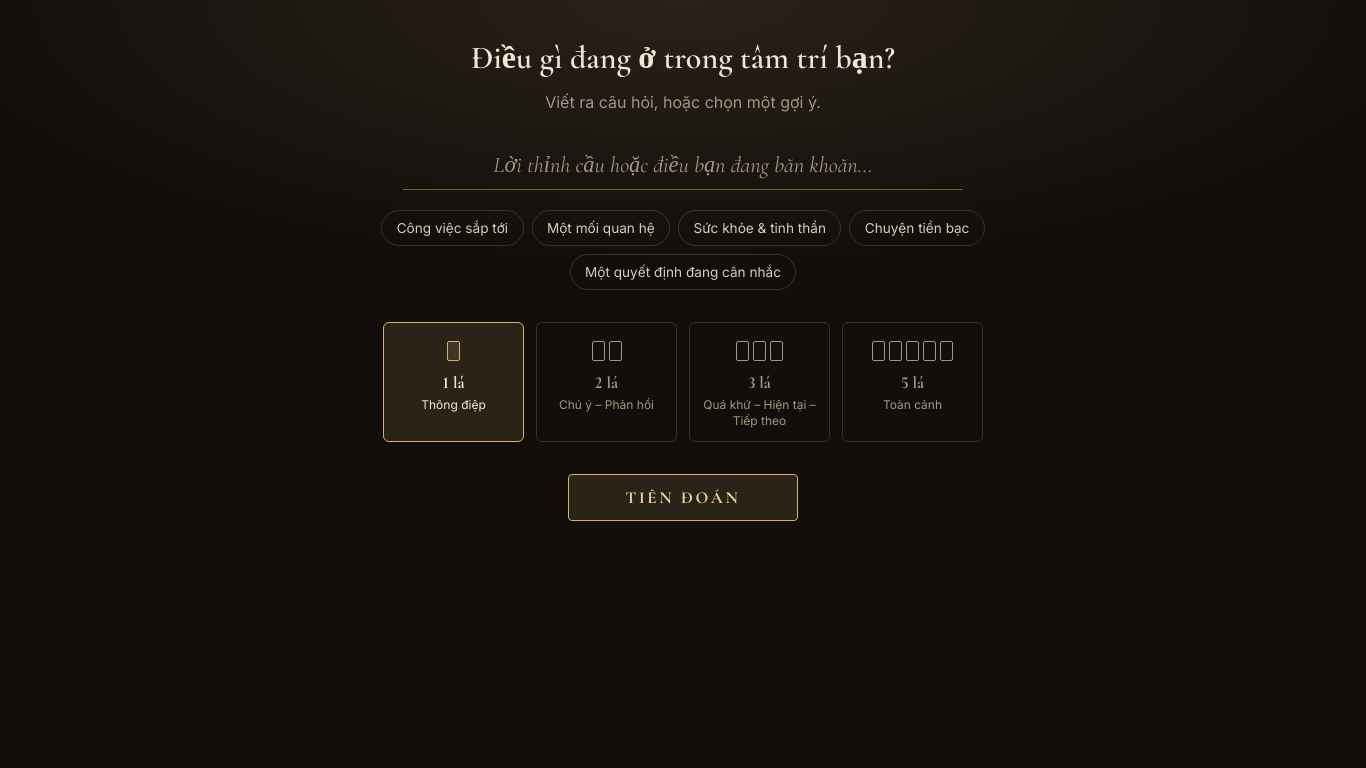
Test: RandomPullTab › "Hỏi câu khác" quay về bước 1, giữ câu hỏi và kiểu trải bài
Step 1. Type "Chuyện tiền bạc" into the text box named "Câu hỏi của bạn" → (683, 165), box [403, 139, 963, 190]
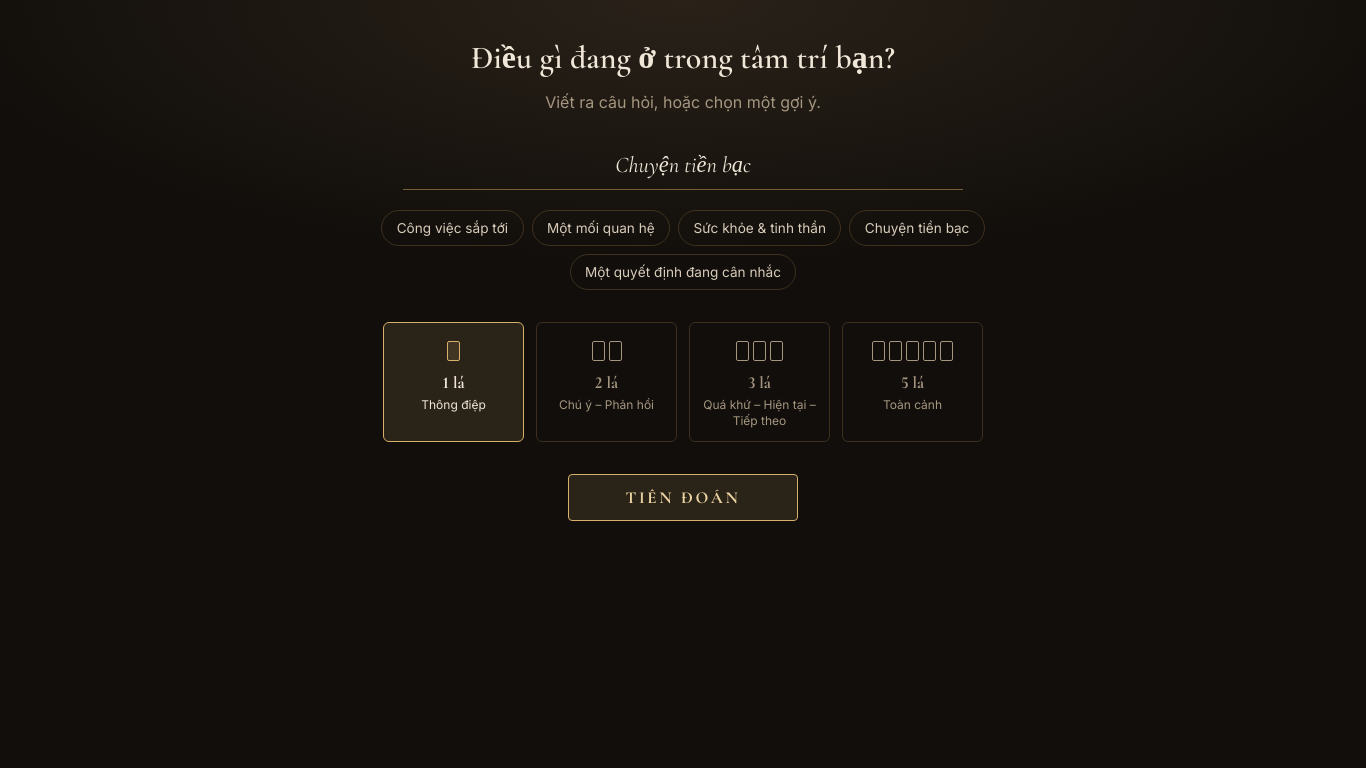
Step 2. Click the button "5 lá Toàn cảnh" → (912, 382), box [842, 322, 983, 442]
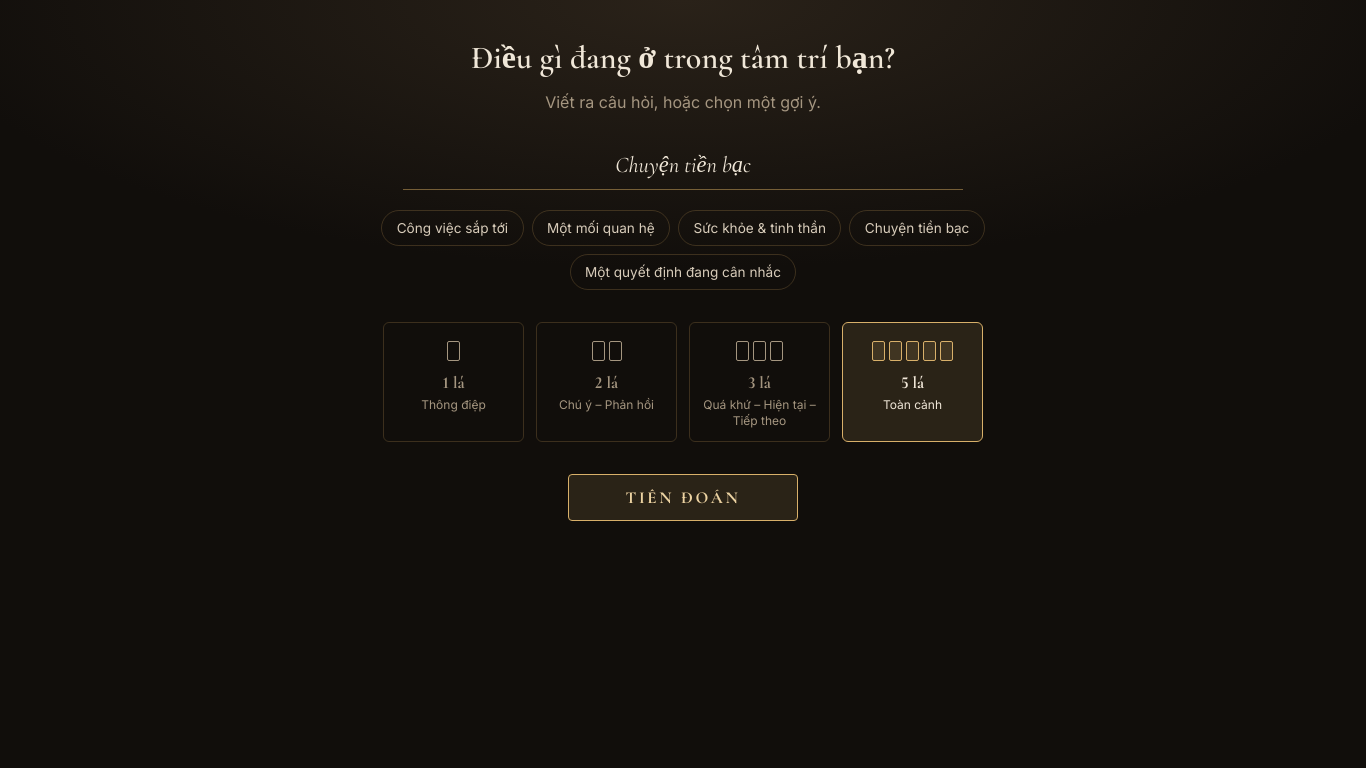
Step 3. Click the button "Tiên đoán" → (683, 497), box [568, 474, 798, 520]
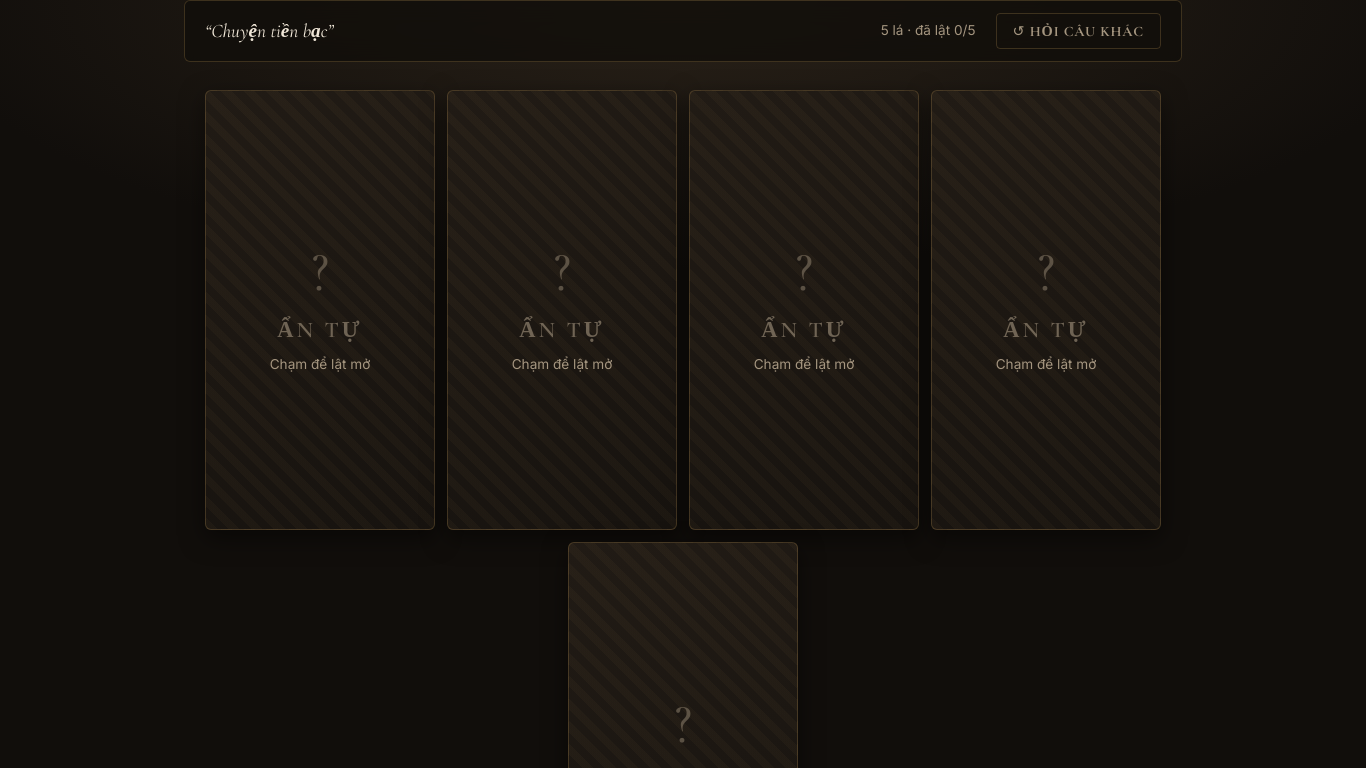
Step 4. Click the button "↺ Hỏi câu khác" → (1078, 31), box [996, 13, 1161, 49]
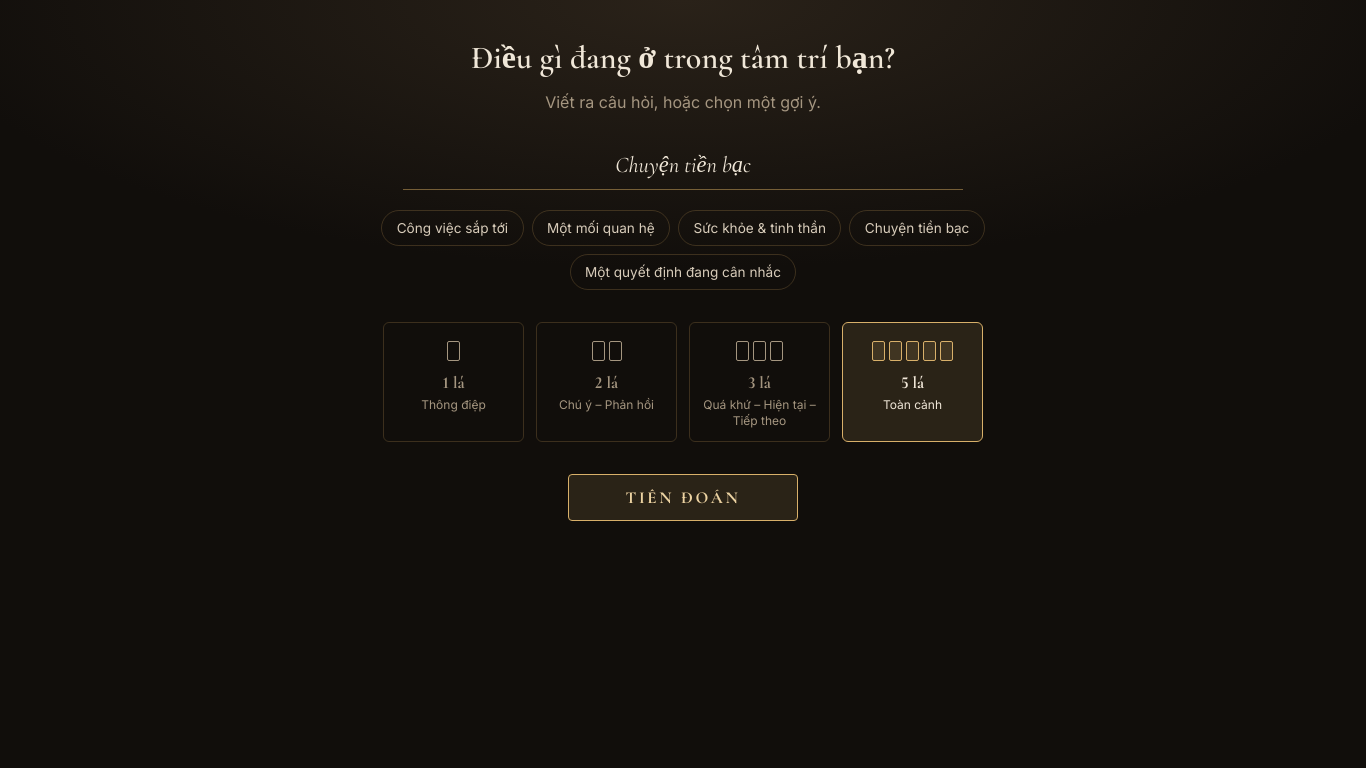
Check: the text box named "Câu hỏi của bạn" holds "Chuyện tiền bạc", box [403, 139, 963, 190]
